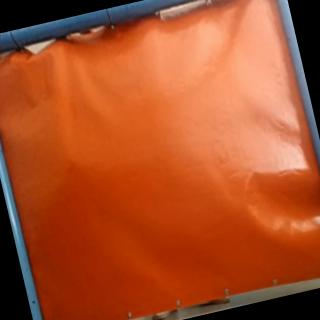Hit-hRxx: (61, 152, 82, 170)
